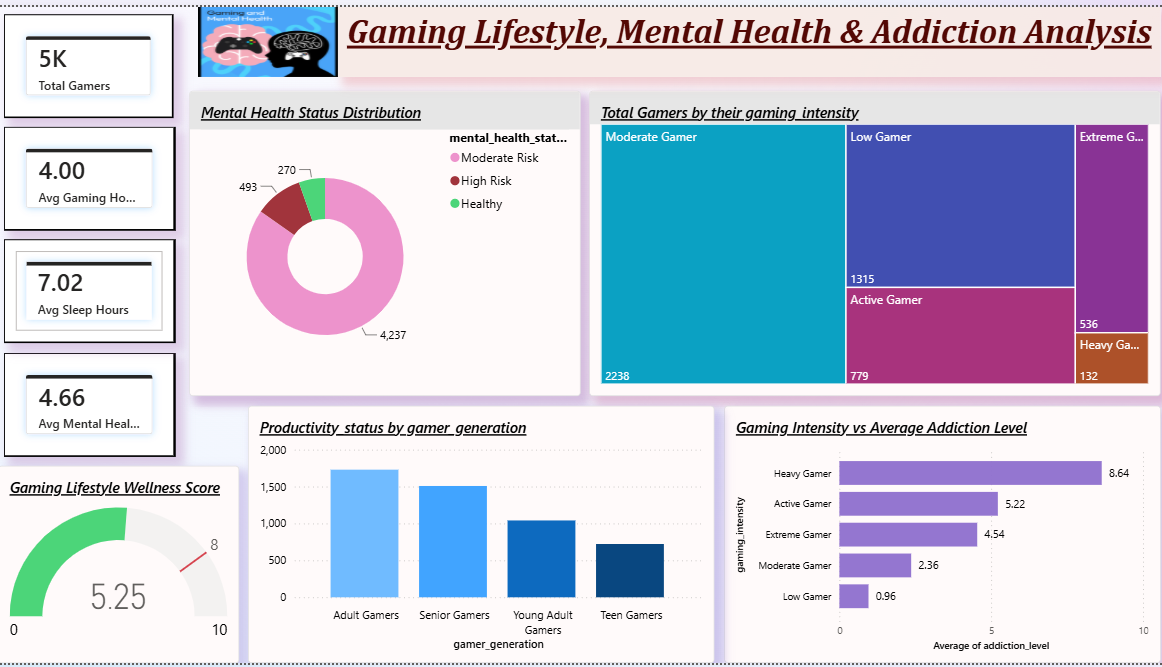

This screenshot's page, from the dashboard's own definition file:
{"tool":"powerbi","page":{"name":"Page 1","canvas":[1280,720],"ordinal":0},"visuals":[{"type":"cardVisual","fields":{"Data":["gaming_mental_health gaming_data.Total Gamers"]},"box":[6.9,8.2,185.2,113.9],"z":0},{"type":"cardVisual","fields":{"Data":["gaming_mental_health gaming_data.Avg Gaming Hours"]},"box":[6.9,131.7,188,113.9],"z":1000},{"type":"cardVisual","fields":{"Data":["gaming_mental_health gaming_data.Avg Mental Health Risk"]},"box":[6.9,380.1,188,113.9],"z":2000},{"type":"cardVisual","fields":{"Data":["gaming_mental_health gaming_data.Avg Sleep Hours"]},"box":[6.9,255.2,188,113.9],"z":3000},{"type":"donutChart","title":"Mental Health Status Distribution","fields":{"Category":["gaming_mental_health gaming_data.mental_health_status"],"Y":["CountNonNull(gaming_mental_health gaming_data.mental_health_status)"]},"box":[209.9,91.9,429.5,334.8],"z":4000},{"type":"treemap","title":"Total Gamers by their gaming_intensity","fields":{"Group":["gaming_mental_health gaming_data.gaming_intensity"],"Values":["gaming_mental_health gaming_data.Total Gamers"]},"box":[649.1,91.9,627.1,334.8],"z":5000},{"type":"barChart","title":"Gaming Intensity vs Average Addiction Level","fields":{"Y":["Avg(gaming_mental_health gaming_data.addiction_level)"],"Category":["gaming_mental_health gaming_data.gaming_intensity"]},"box":[797.3,437.7,478.9,282.7],"z":6000},{"type":"gauge","title":"Gaming Lifestyle Wellness Score","fields":{"Y":["gaming_mental_health gaming_data.Avg Wellness Score"],"MinValue":["gaming_mental_health gaming_data.Gauge Min"],"TargetValue":["gaming_mental_health gaming_data.Wellness Target"],"MaxValue":["gaming_mental_health gaming_data.Gauge Max"]},"box":[0,503.6,264.8,216.8],"z":7000},{"type":"columnChart","title":"Productivity_status by gamer_generation","fields":{"Category":["gaming_mental_health gaming_data.gamer_generation"],"Y":["CountNonNull(gaming_mental_health gaming_data.productivity_status)"]},"box":[274.4,437.7,511.8,282.7],"z":8000},{"type":"textbox","box":[373.2,0,902.9,76.8],"z":9000},{"type":"image","box":[219.6,0,153.7,76.8],"z":9001}]}

Visuals, with their boxes in screenshot pixels (x1, y1, x2, y2), scaled from the page's 1280x720 canvas onto the 1162x667 screenshot:
cardVisual - gaming_mental_health gaming_data.Total Gamers: <bbox>6, 8, 174, 113</bbox>
cardVisual - gaming_mental_health gaming_data.Avg Gaming Hours: <bbox>6, 122, 177, 228</bbox>
cardVisual - gaming_mental_health gaming_data.Avg Mental Health Risk: <bbox>6, 352, 177, 458</bbox>
cardVisual - gaming_mental_health gaming_data.Avg Sleep Hours: <bbox>6, 236, 177, 342</bbox>
"Mental Health Status Distribution" donutChart: <bbox>191, 85, 580, 395</bbox>
"Total Gamers by their gaming_intensity" treemap: <bbox>589, 85, 1159, 395</bbox>
"Gaming Intensity vs Average Addiction Level" barChart: <bbox>724, 405, 1159, 666</bbox>
"Gaming Lifestyle Wellness Score" gauge: <bbox>0, 467, 240, 666</bbox>
"Productivity_status by gamer_generation" columnChart: <bbox>249, 405, 714, 666</bbox>
textbox: <bbox>339, 0, 1158, 71</bbox>
image: <bbox>199, 0, 339, 71</bbox>
